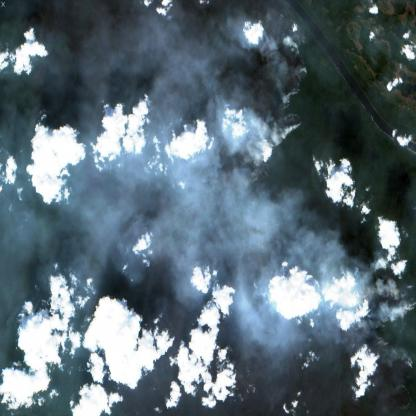fire: (343, 230, 416, 416), (256, 19, 304, 188)
